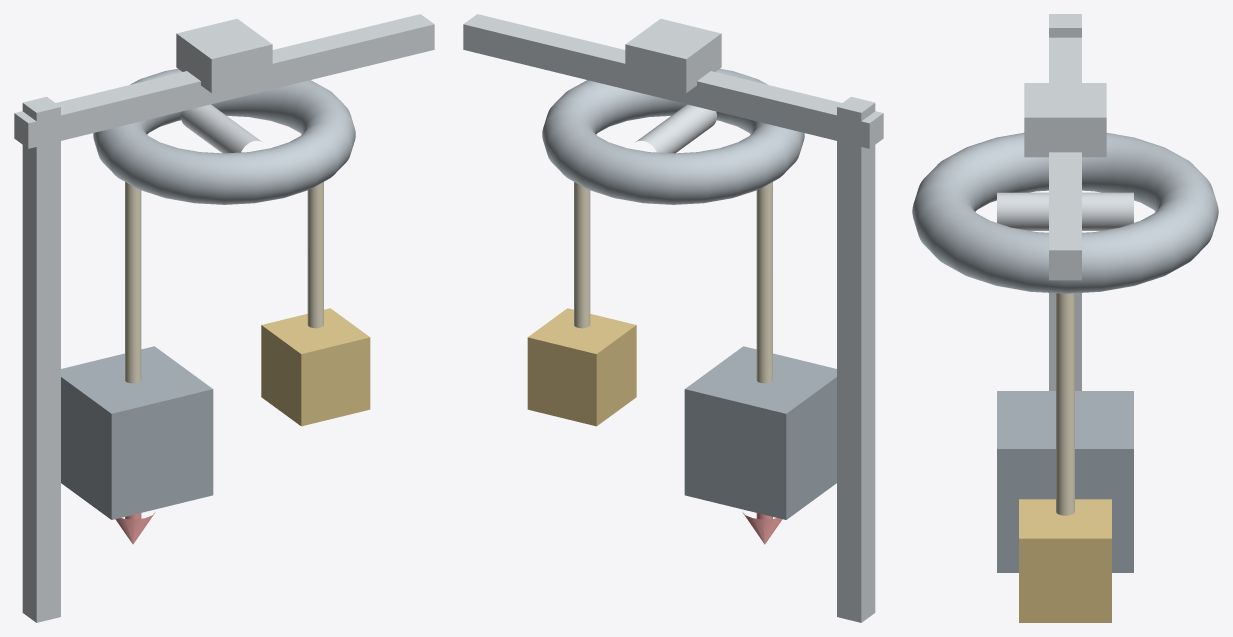
The model's file is pulley.glb.
3 renders of one model, left to right at view 1: azimuth 30°, elevation 25°; view 2: azimuth 150°, elevation 25°; view 3: azimuth 270°, elevation 25°, orthographic. The views are drawn at different scales.
Visible parts, largest first — view 1: load, support_frame, pulley_wheel, support_crossbar, effort_applied, pulley_mount, rope, rope_2, pulley_axle, load_force; view 2: load, support_frame, pulley_wheel, support_crossbar, effort_applied, pulley_mount, rope, rope_2, pulley_axle, load_force; view 3: pulley_wheel, load, effort_applied, pulley_mount, support_crossbar, rope_2, pulley_axle, support_frame.
Boxes of the visible parts, x1=… form: load: x1=61, y1=346, x2=213, y2=519; support_frame: x1=22, y1=96, x2=60, y2=622; pulley_wheel: x1=93, y1=69, x2=355, y2=204; support_crossbar: x1=14, y1=14, x2=434, y2=148; effort_applied: x1=261, y1=308, x2=370, y2=426; pulley_mount: x1=176, y1=18, x2=272, y2=93; rope: x1=125, y1=182, x2=141, y2=383; rope_2: x1=307, y1=182, x2=323, y2=328; pulley_axle: x1=181, y1=104, x2=261, y2=153; load_force: x1=115, y1=512, x2=155, y2=544; load: x1=684, y1=346, x2=836, y2=519; support_frame: x1=837, y1=96, x2=875, y2=622; pulley_wheel: x1=542, y1=69, x2=804, y2=204; support_crossbar: x1=463, y1=14, x2=883, y2=148; effort_applied: x1=527, y1=308, x2=636, y2=426; pulley_mount: x1=625, y1=18, x2=721, y2=93; rope: x1=756, y1=182, x2=772, y2=383; rope_2: x1=574, y1=182, x2=590, y2=328; pulley_axle: x1=636, y1=104, x2=716, y2=153; load_force: x1=742, y1=512, x2=782, y2=544; pulley_wheel: x1=912, y1=132, x2=1218, y2=293; load: x1=997, y1=391, x2=1133, y2=572; effort_applied: x1=1019, y1=499, x2=1111, y2=622; pulley_mount: x1=1024, y1=83, x2=1106, y2=157; support_crossbar: x1=1049, y1=37, x2=1081, y2=280; rope_2: x1=1056, y1=293, x2=1074, y2=515; pulley_axle: x1=997, y1=192, x2=1133, y2=230; support_frame: x1=1049, y1=14, x2=1081, y2=390.
Size of the model in its own units: 1.18 by 1.47 by 0.6604.
